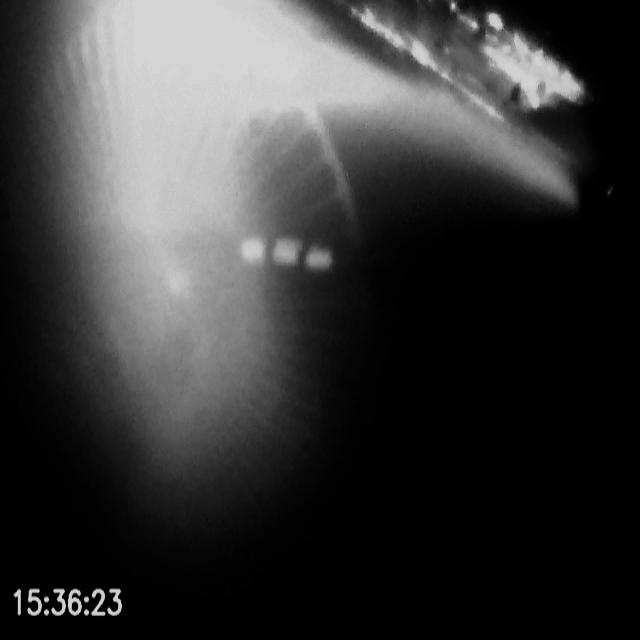white-dots: (237, 232, 335, 274)
